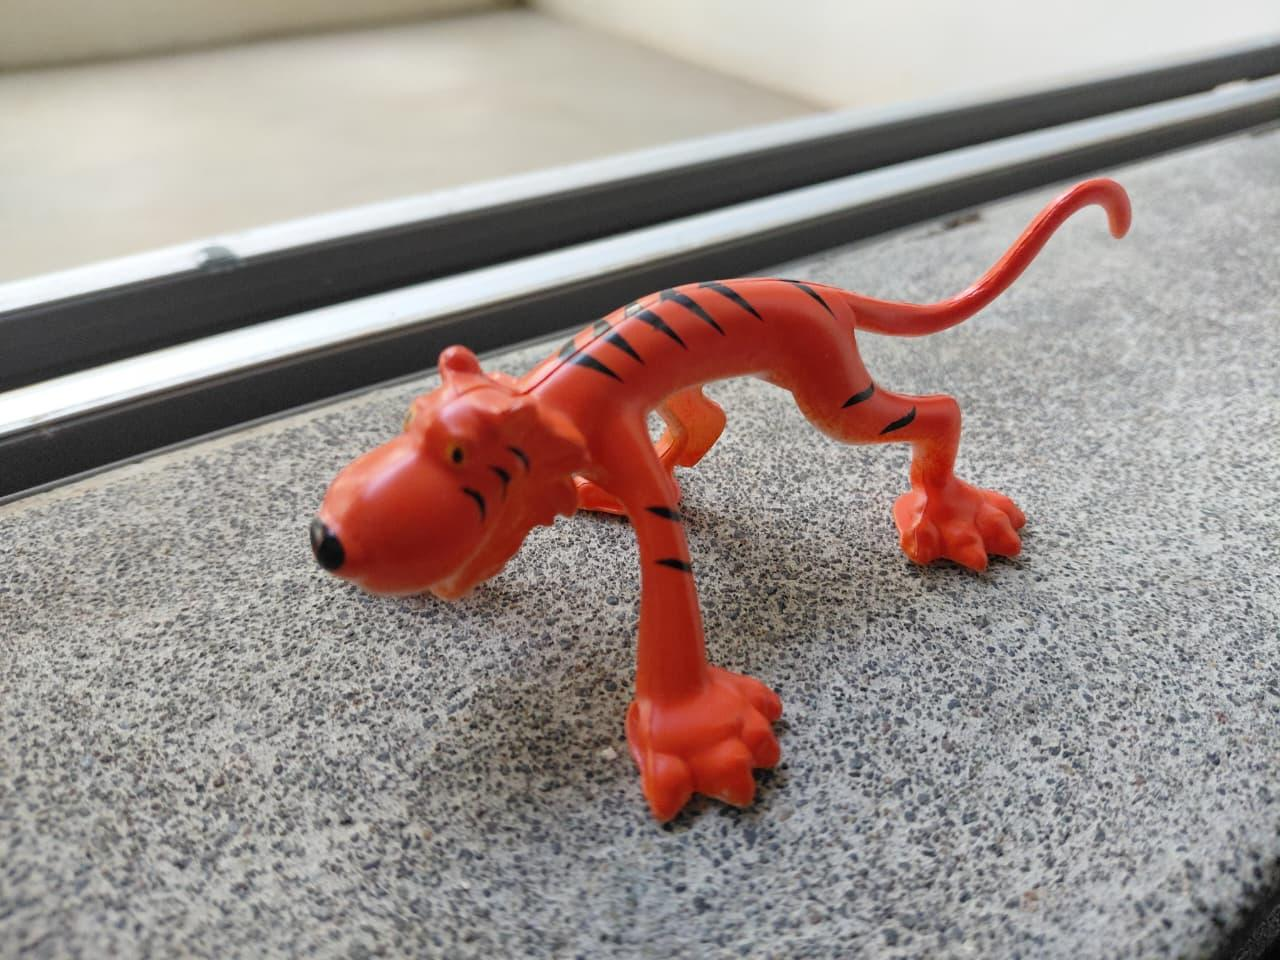tiger: (248, 168, 1146, 828)
